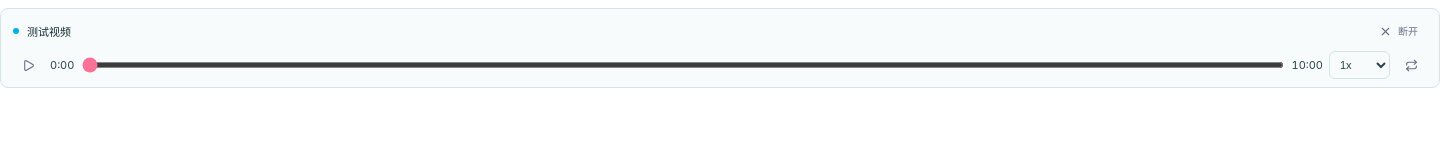
Test case: escape cancels the time edit without seeking
The width and height of the screenshot is (1440, 160).
Click the button named "修改播放时间". click: (62, 65)
box: [50,58,74,72]
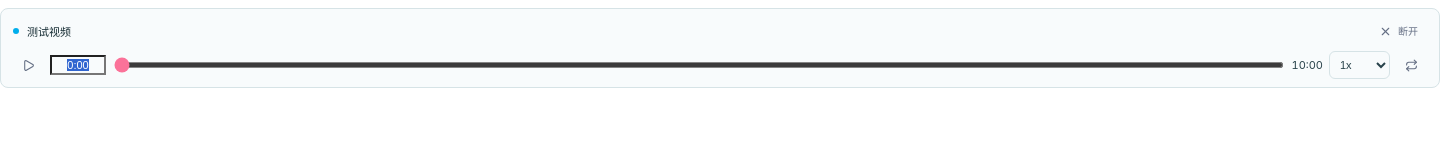
Replace the text in the field named "跳转到时间" with "2:00". click: (78, 65)
box: [50,55,106,75]
Then press Escape
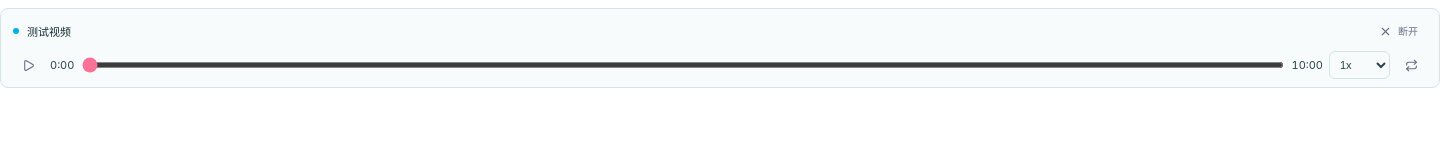
Check: the field labelled "跳转到时间" is gone
